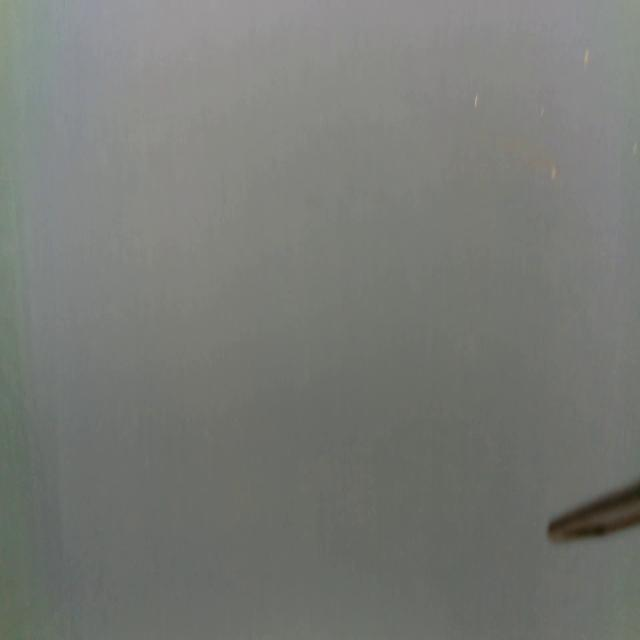hole: (472, 92, 480, 112)
